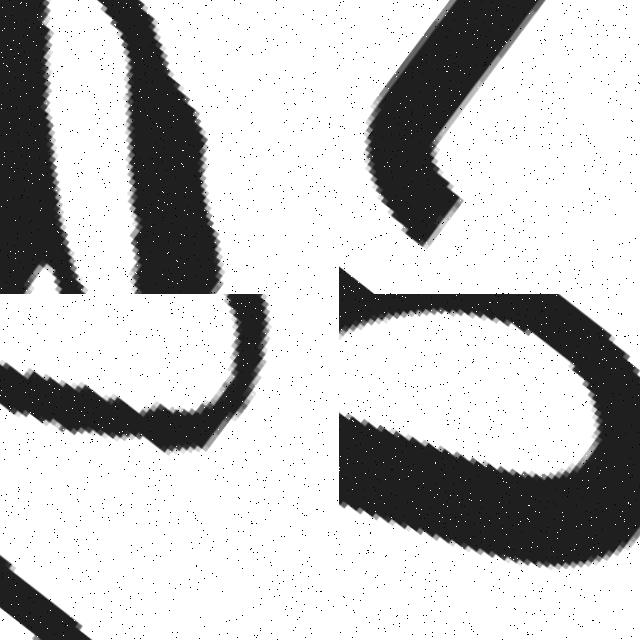A: (0, 0, 339, 294)
J: (339, 0, 640, 275)
S: (0, 294, 339, 640), (339, 294, 640, 640)
